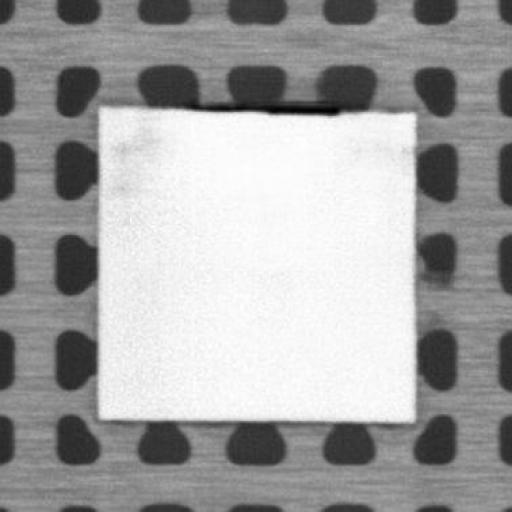DIE_BROKEN: (186, 99, 342, 116)
